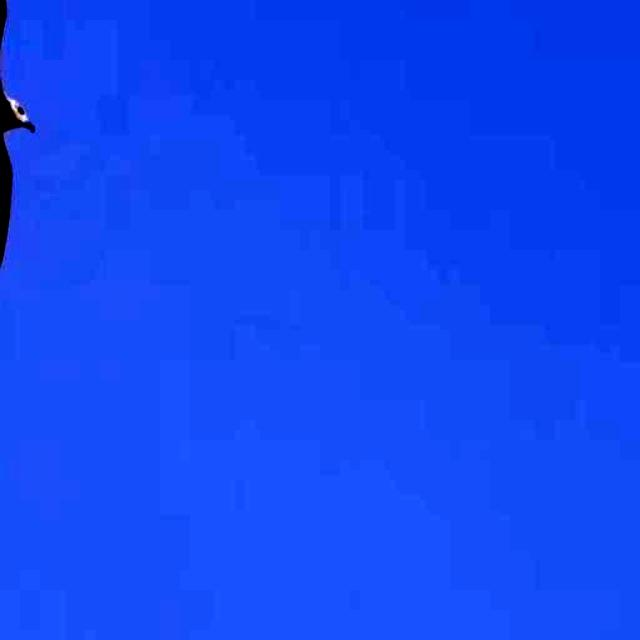airplane: (0, 0, 68, 318)
